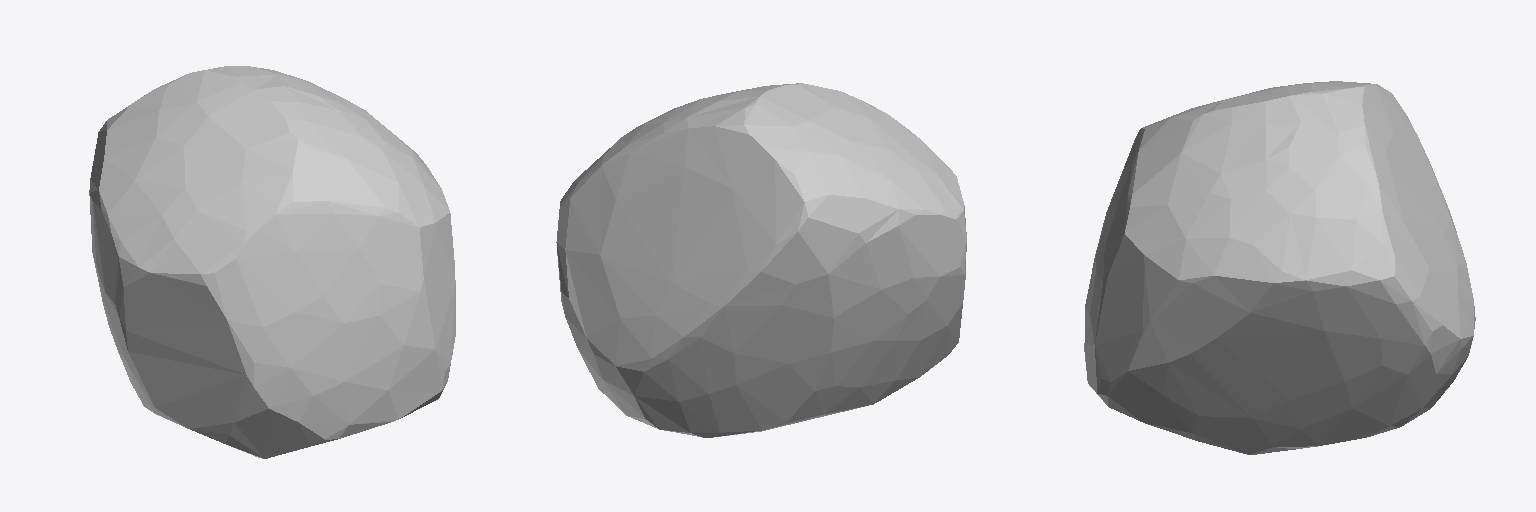
Rendered from asteroid2.obj.
The picture shows the model from 3 angles: view 1: azimuth 30°, elevation 25°; view 2: azimuth 150°, elevation 25°; view 3: azimuth 270°, elevation 25°; orthographic projection.
Visible parts, largest first — view 1: Asteroid_m_06.001_Asteroid_m_06; view 2: Asteroid_m_06.001_Asteroid_m_06; view 3: Asteroid_m_06.001_Asteroid_m_06.
Part boxes in pixels (left/top/right/bottom): Asteroid_m_06.001_Asteroid_m_06: left=89, top=66, right=455, bottom=458; Asteroid_m_06.001_Asteroid_m_06: left=556, top=83, right=966, bottom=437; Asteroid_m_06.001_Asteroid_m_06: left=1084, top=81, right=1475, bottom=454.
Size of the model in its own units: 847 by 792 by 861.